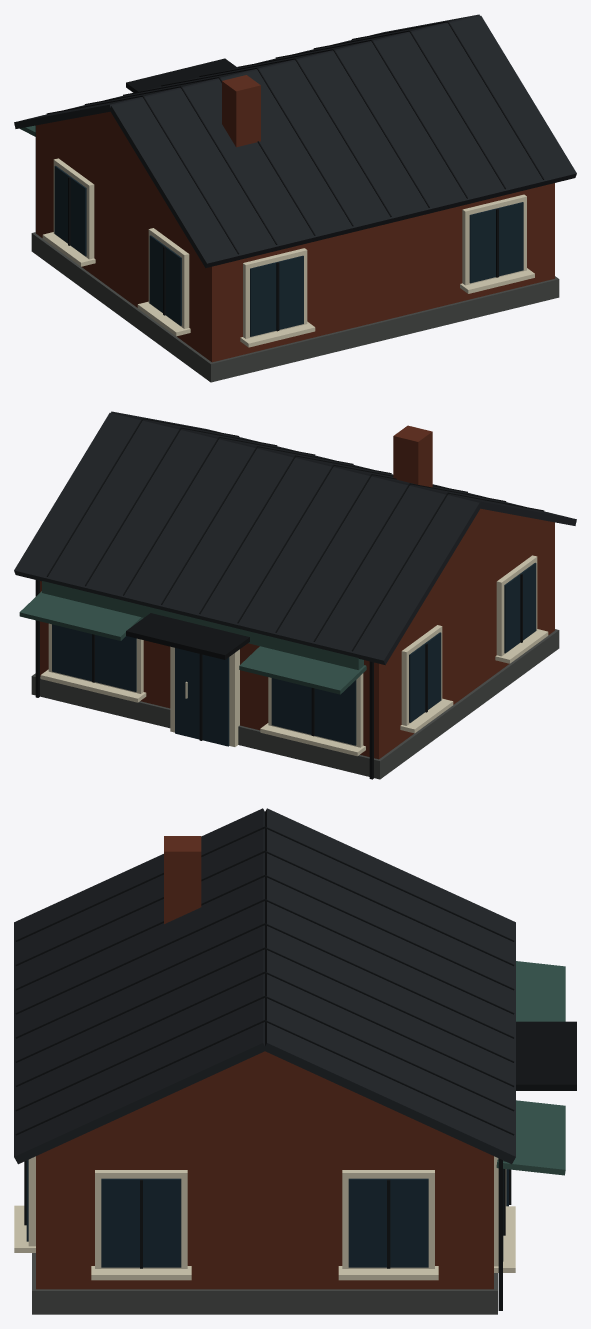
Rendered from 09_Bakery.obj.
3 renders of one model, top to bottom at view 1: azimuth 30°, elevation 25°; view 2: azimuth 150°, elevation 25°; view 3: azimuth 270°, elevation 25°, orthographic. The views are drawn at different scales.
Parts seen in each view (by area): view 1: Roof, Brick, Glass, Base, Trim, Metal; view 2: Roof, Brick, Glass, Metal, Awning, Base, Trim; view 3: Roof, Brick, Metal, Glass, Base, Trim, Awning.
Boxes of the visible parts, x1,y1,x2,y2 form: Roof: (14,14,576,268); Brick: (36,75,554,362); Glass: (54,165,523,336); Base: (31,232,559,382); Trim: (42,158,534,347); Metal: (35,21,544,331); Roof: (14,411,576,665); Brick: (40,425,554,759); Glass: (52,562,536,746); Metal: (35,418,544,779); Awning: (19,581,366,694); Base: (31,629,559,779); Trim: (40,555,548,756); Roof: (14,808,515,1164); Brick: (36,836,493,1289); Metal: (15,826,576,1310); Glass: (26,1159,508,1267); Base: (32,1253,497,1314); Trim: (14,1156,515,1280); Awning: (496,961,565,1175).
Bounding box in the file's own units: 9.76 × 5.9 × 9.84.
